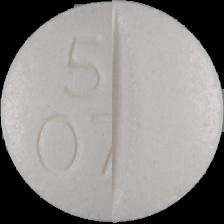0179-0201: (0, 0, 224, 224)
